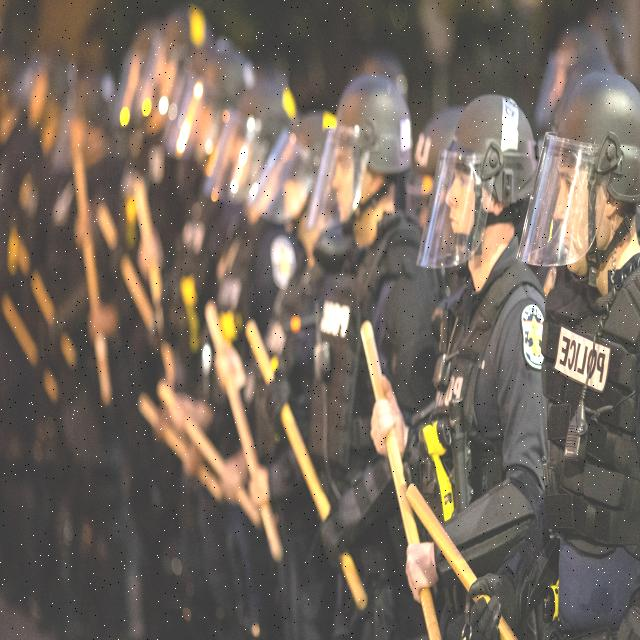police: (292, 67, 438, 640), (414, 84, 550, 640), (546, 41, 640, 640)
